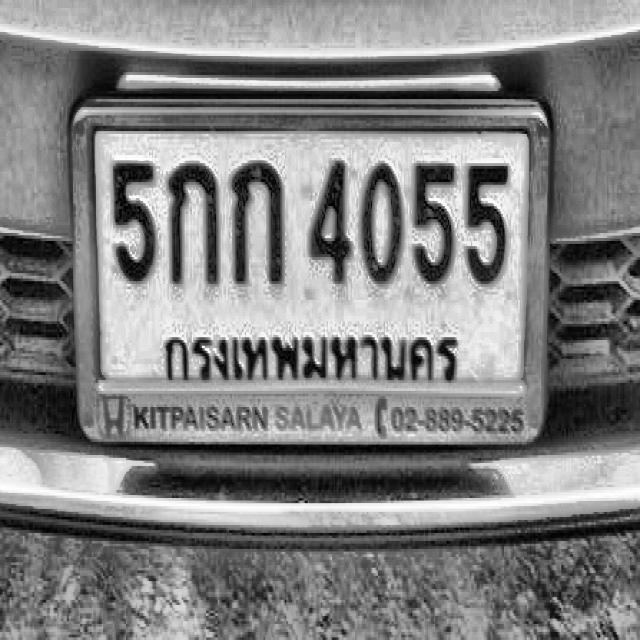license-plate: (53, 74, 563, 468)
